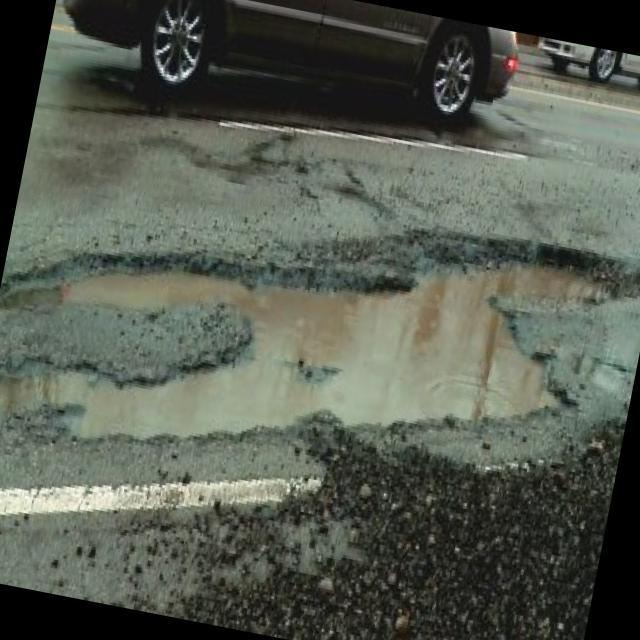Pothole: (226, 195, 604, 498), (0, 182, 271, 349), (0, 318, 242, 482), (482, 212, 640, 336)
